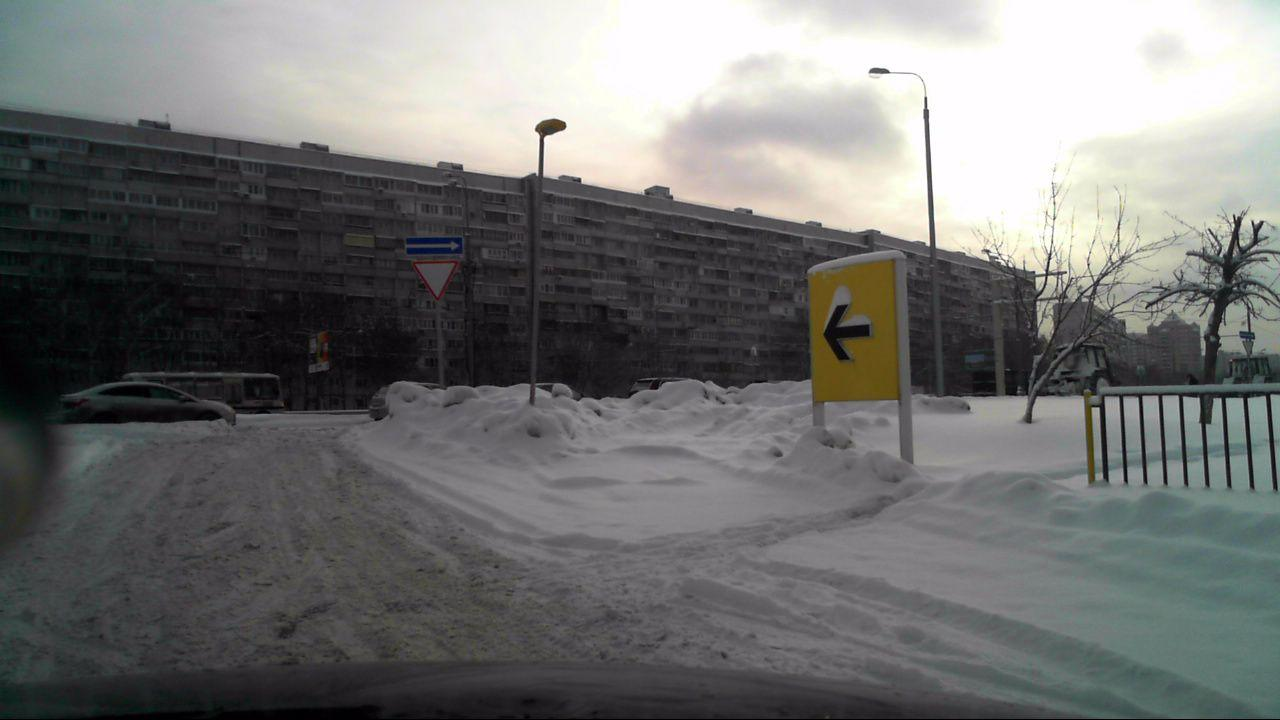2_4: (411, 260, 460, 300)
5_7_1: (403, 236, 462, 258)
